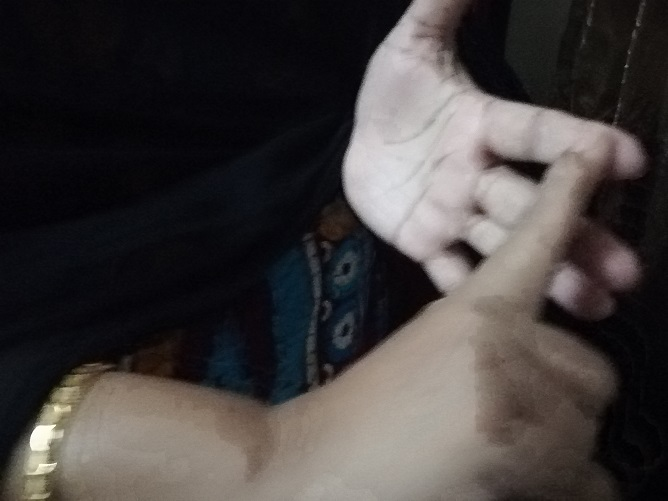o: (363, 16, 657, 423)
